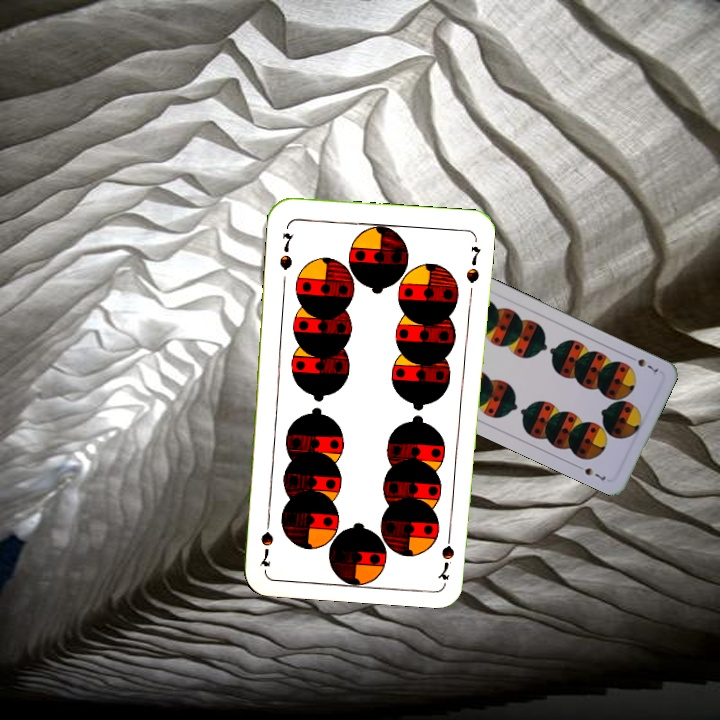S7: (435, 523, 457, 582), (275, 228, 296, 272), (625, 352, 661, 375)
